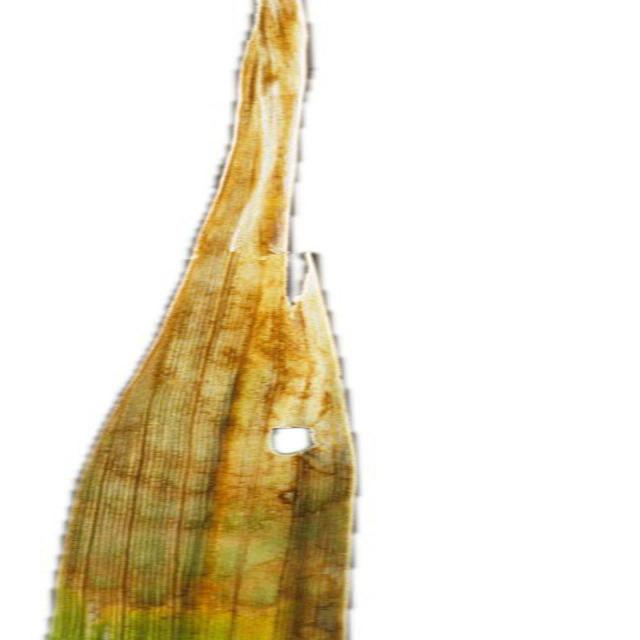Leaf scald: (30, 0, 417, 638)
